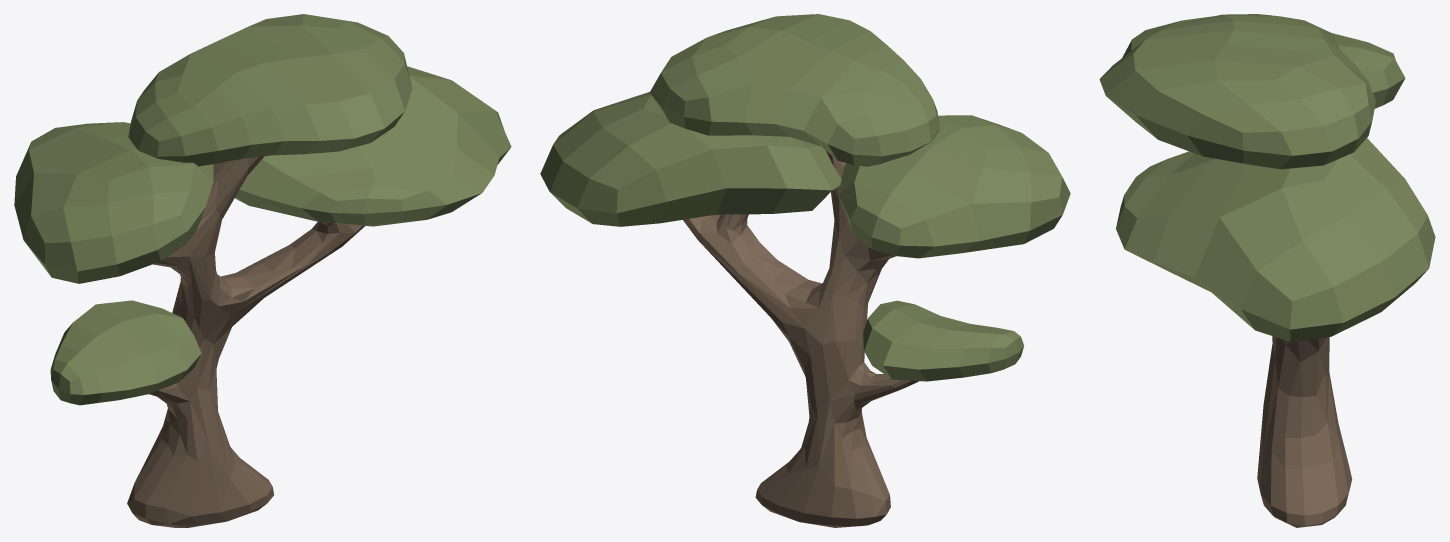
The model's file is tree-1.fbx.
The picture shows the model from 3 angles, left to right: view 1: azimuth 30°, elevation 25°; view 2: azimuth 150°, elevation 25°; view 3: azimuth 270°, elevation 25°; orthographic projection. The views are drawn at different scales.
Visible parts, largest first — view 1: Cube.014, Cube.013, Cube.017, Cube.016, Cube.015; view 2: Cube.014, Cube.013, Cube.016, Cube.017, Cube.015; view 3: Cube.016, Cube.014, Cube.013, Cube.017.
Part boxes in pixels (<box>): Cube.014: <box>128,14,412,166</box>; Cube.013: <box>127,156,364,527</box>; Cube.017: <box>14,122,213,283</box>; Cube.016: <box>235,66,511,226</box>; Cube.015: <box>50,300,201,405</box>; Cube.014: <box>649,14,939,166</box>; Cube.013: <box>683,151,919,527</box>; Cube.016: <box>540,92,841,226</box>; Cube.017: <box>838,115,1070,258</box>; Cube.015: <box>863,300,1024,381</box>; Cube.016: <box>1116,138,1435,341</box>; Cube.014: <box>1099,14,1375,169</box>; Cube.013: <box>1257,336,1352,527</box>; Cube.017: <box>1122,16,1405,108</box>.
Size of the model in its own units: 2067 by 1847 by 1156.
